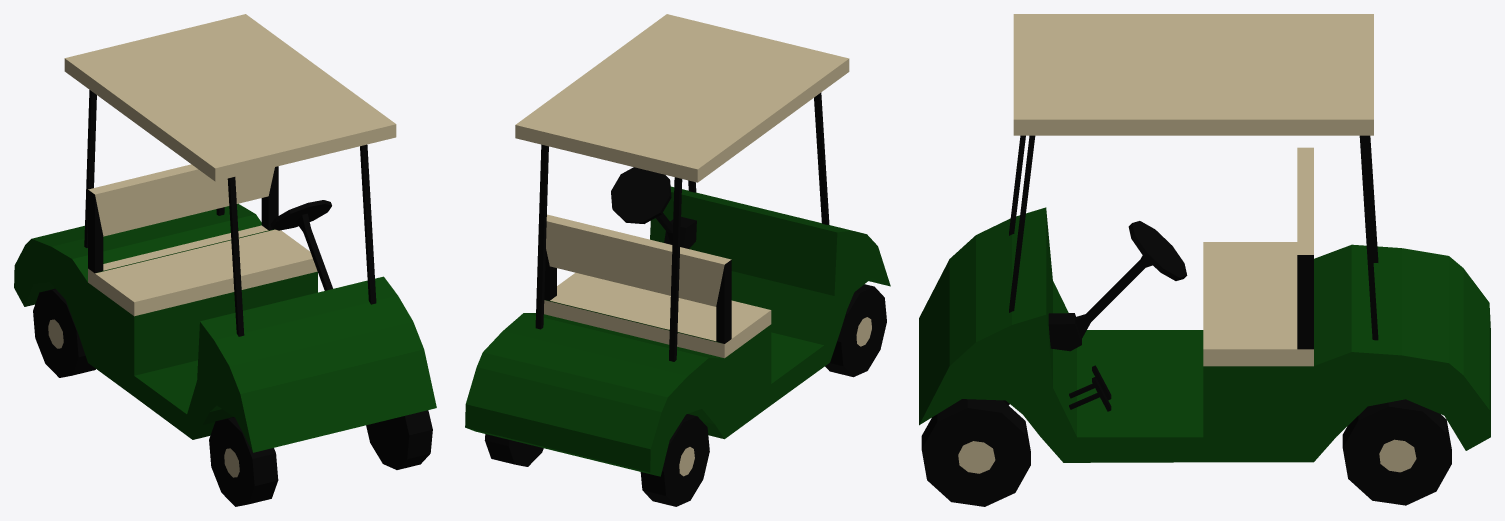
Rendered from golfCart.obj.
3 views of the same model, side by side, from view 1: azimuth 30°, elevation 25°; view 2: azimuth 150°, elevation 25°; view 3: azimuth 270°, elevation 25° (orthographic). The views are drawn at different scales.
Visible parts, largest first — view 1: Cube.012_Mesh.001, Cube.005_Cube.008, Cylinder.002_Cylinder.005, Cylinder.003_Cylinder.005, Cylinder.004_Cylinder.005, Cube.006_Cube.009, Cube.007_Cube.010, Cube.009_Cube.012, Cylinder, Cube.004_Cube.005; view 2: Cube.012_Mesh.001, Cube.005_Cube.008, Cylinder.003_Cylinder.005, Cylinder.002_Cylinder.005, Cylinder, Cube.008_Cube.011, Cube.009_Cube.012, Cylinder.001, Cube.007_Cube.010, Cube.003_Cube.004; view 3: Cube.012_Mesh.001, Cube.005_Cube.008, Cylinder.004_Cylinder.005, Cylinder.001, Cylinder, Cube.008_Cube.011, Cube.006_Cube.009, Cube.003_Cube.004, Cube.004_Cube.005, Cube.009_Cube.012.
Part boxes in pixels (bbox=[...]): Cube.012_Mesh.001: bbox=[14, 164, 436, 452]; Cube.005_Cube.008: bbox=[64, 14, 396, 181]; Cylinder.002_Cylinder.005: bbox=[209, 417, 278, 506]; Cylinder.003_Cylinder.005: bbox=[33, 288, 95, 377]; Cylinder.004_Cylinder.005: bbox=[366, 410, 432, 469]; Cube.006_Cube.009: bbox=[360, 144, 376, 304]; Cube.007_Cube.010: bbox=[227, 177, 244, 336]; Cube.009_Cube.012: bbox=[84, 90, 96, 247]; Cylinder: bbox=[270, 200, 331, 230]; Cube.004_Cube.005: bbox=[295, 213, 332, 290]; Cube.012_Mesh.001: bbox=[465, 186, 890, 476]; Cube.005_Cube.008: bbox=[515, 14, 849, 182]; Cylinder.003_Cylinder.005: bbox=[640, 414, 709, 506]; Cylinder.002_Cylinder.005: bbox=[825, 284, 886, 377]; Cylinder: bbox=[611, 167, 671, 223]; Cube.008_Cube.011: bbox=[535, 144, 548, 329]; Cube.009_Cube.012: bbox=[669, 177, 682, 361]; Cylinder.001: bbox=[484, 434, 543, 466]; Cube.007_Cube.010: bbox=[814, 92, 829, 224]; Cube.003_Cube.004: bbox=[664, 216, 696, 248]; Cube.012_Mesh.001: bbox=[919, 147, 1490, 462]; Cube.005_Cube.008: bbox=[1013, 14, 1373, 135]; Cylinder.004_Cylinder.005: bbox=[921, 399, 1030, 506]; Cylinder.001: bbox=[1342, 399, 1451, 505]; Cylinder: bbox=[1128, 221, 1187, 280]; Cube.008_Cube.011: bbox=[1359, 135, 1378, 340]; Cube.006_Cube.009: bbox=[1009, 135, 1035, 312]; Cube.003_Cube.004: bbox=[1048, 313, 1081, 351]; Cube.004_Cube.005: bbox=[1075, 255, 1152, 338]; Cube.009_Cube.012: bbox=[1365, 135, 1378, 262].
Bounding box in the file's own units: 8.06 × 13.6 × 18.16.
Materials: 3 (3 with a texture image).
